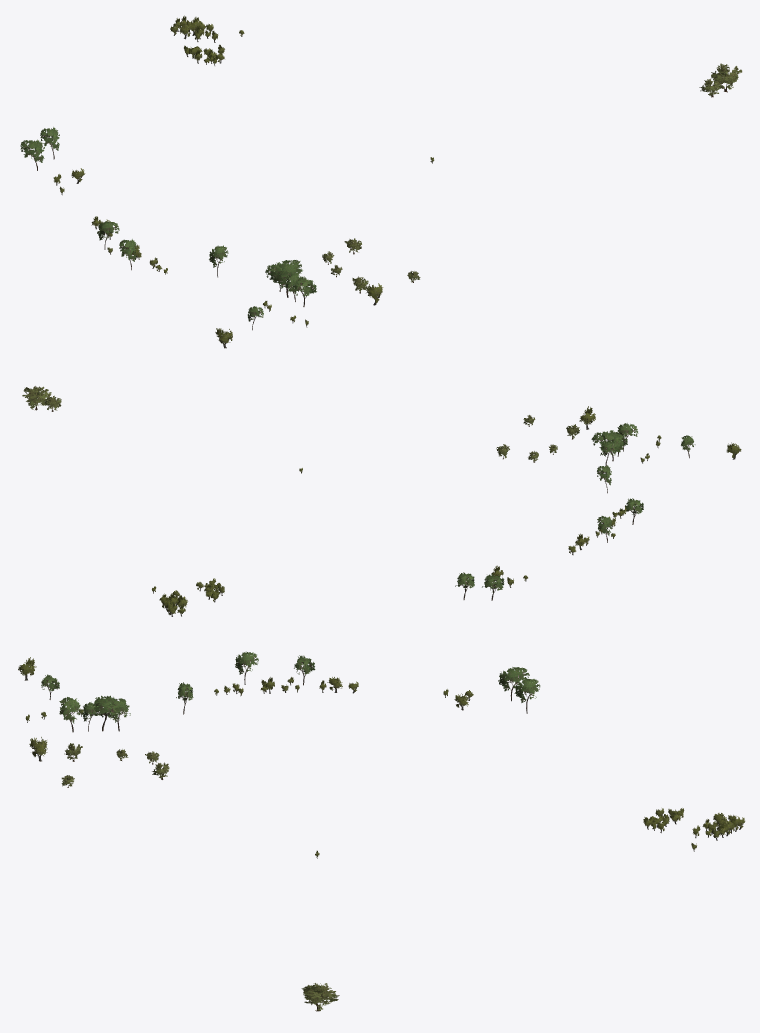
3 renders of one model, top to bottom at view 1: azimuth 30°, elevation 25°; view 2: azimuth 150°, elevation 25°; view 3: azimuth 270°, elevation 25°, orthographic. The views are drawn at different scales.
Parts seen in each view (by area): view 1: tree_small_02 street foliage, island_tree_01 street foliage, jacaranda_tree street foliage; view 2: tree_small_02 street foliage, island_tree_01 street foliage, jacaranda_tree street foliage; view 3: tree_small_02 street foliage, island_tree_01 street foliage, jacaranda_tree street foliage.
Part boxes in pixels (x1,y1,x2,y2): tree_small_02 street foliage: (20,127,316,321); island_tree_01 street foliage: (53,15,434,344); jacaranda_tree street foliage: (322,63,742,291); tree_small_02 street foliage: (455,423,695,592); island_tree_01 street foliage: (152,406,741,614); jacaranda_tree street foliage: (22,386,579,461); tree_small_02 street foliage: (41,651,540,723); island_tree_01 street foliage: (18,657,745,856); jacaranda_tree street foliage: (61,743,339,1010).
Bounding box in the file's own units: 478 × 22.54 × 427.
6 materials, 6 textured.
